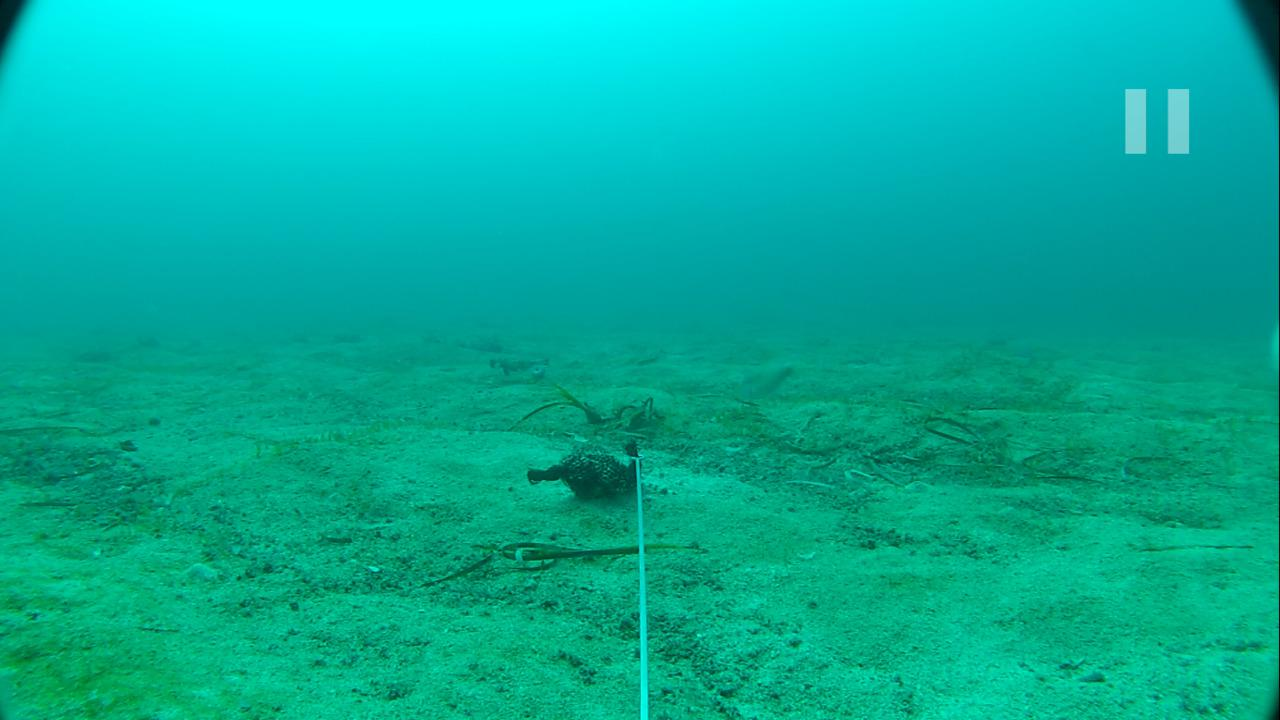dactylopterus: (479, 346, 558, 384)
raor: (720, 358, 803, 404)
